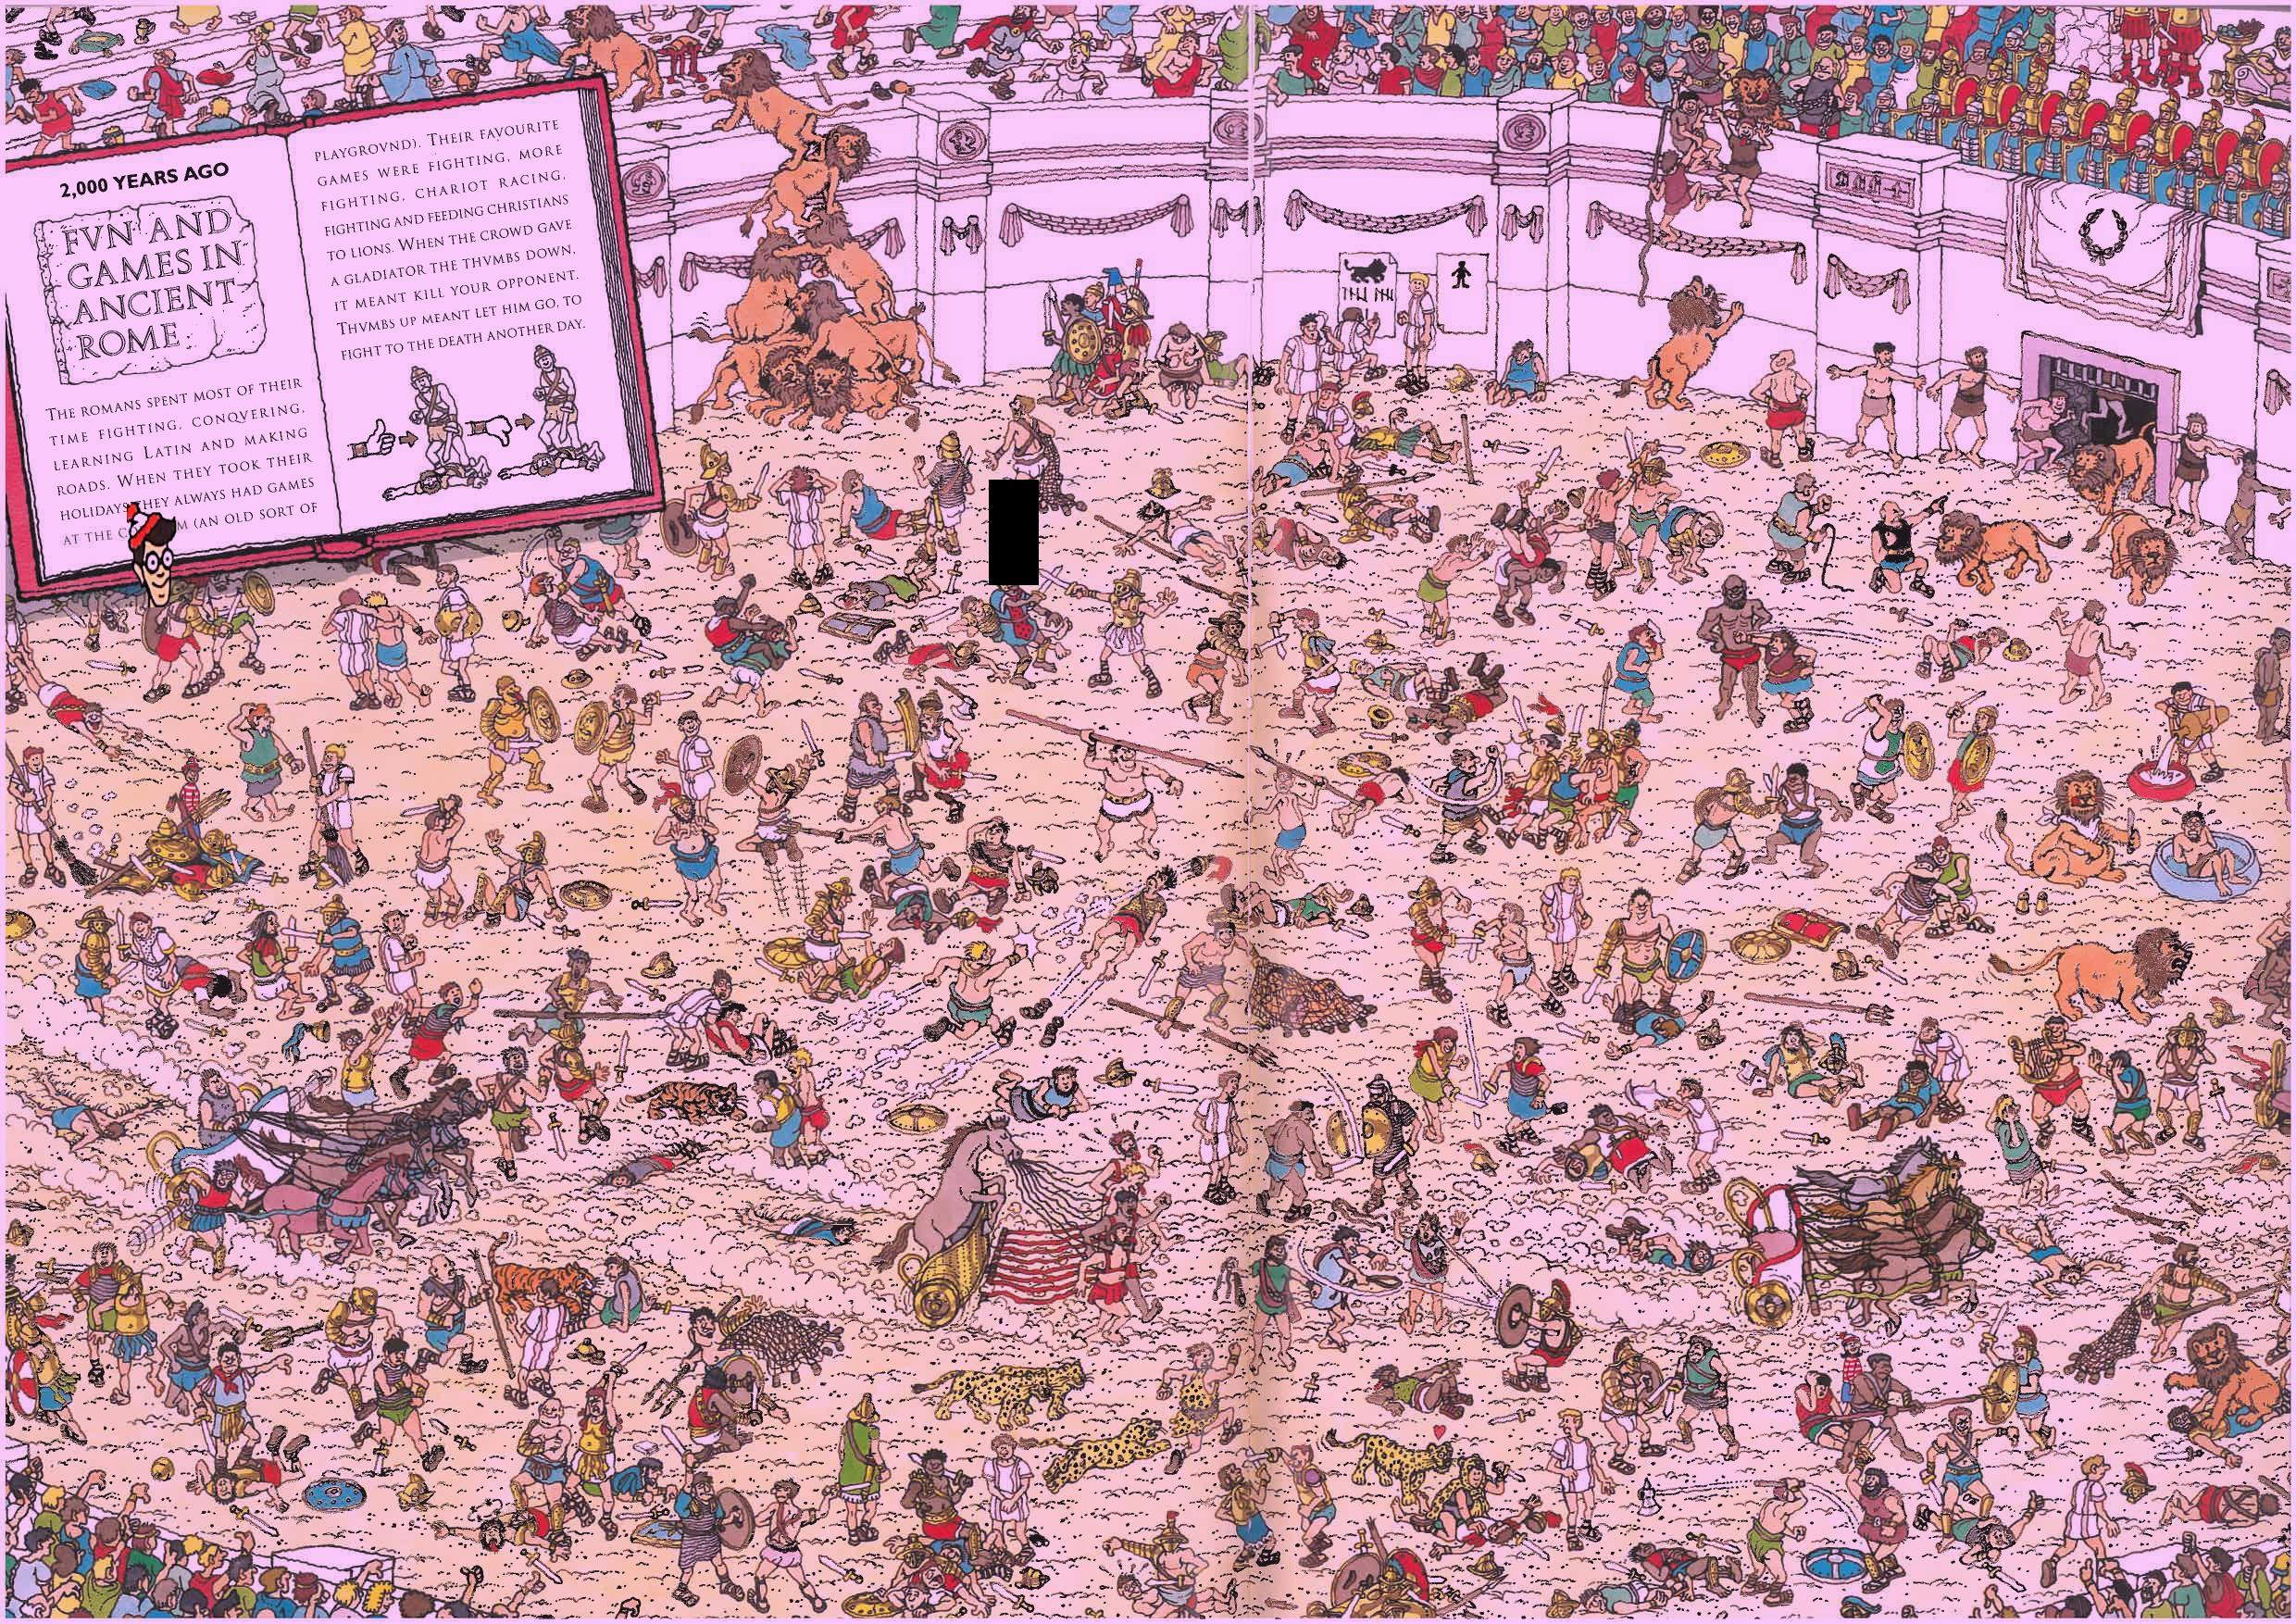waldos: (126, 503, 177, 608)
